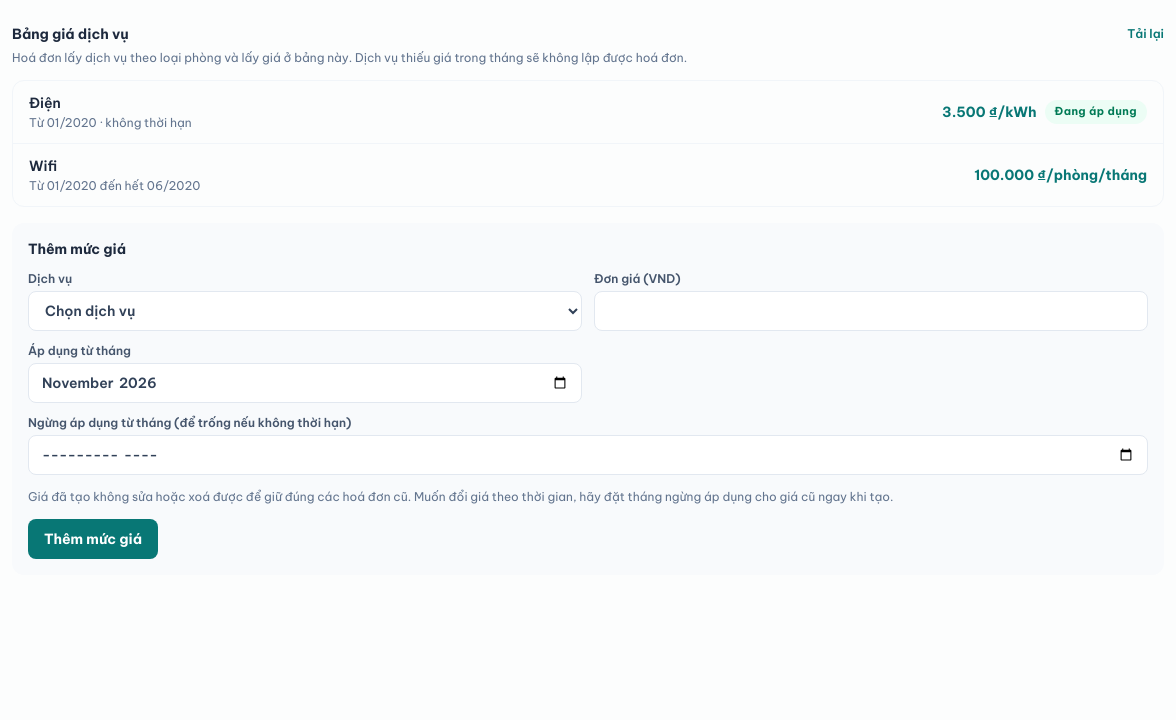
Scenario: PropertyServiceRatesPanel › submits the backend default for Additional Occupant without a billing selector
Step 1. Select "Additional Occupant" in the dropdown labelled "Dịch vụ" → (305, 311), box [28,291,582,331]
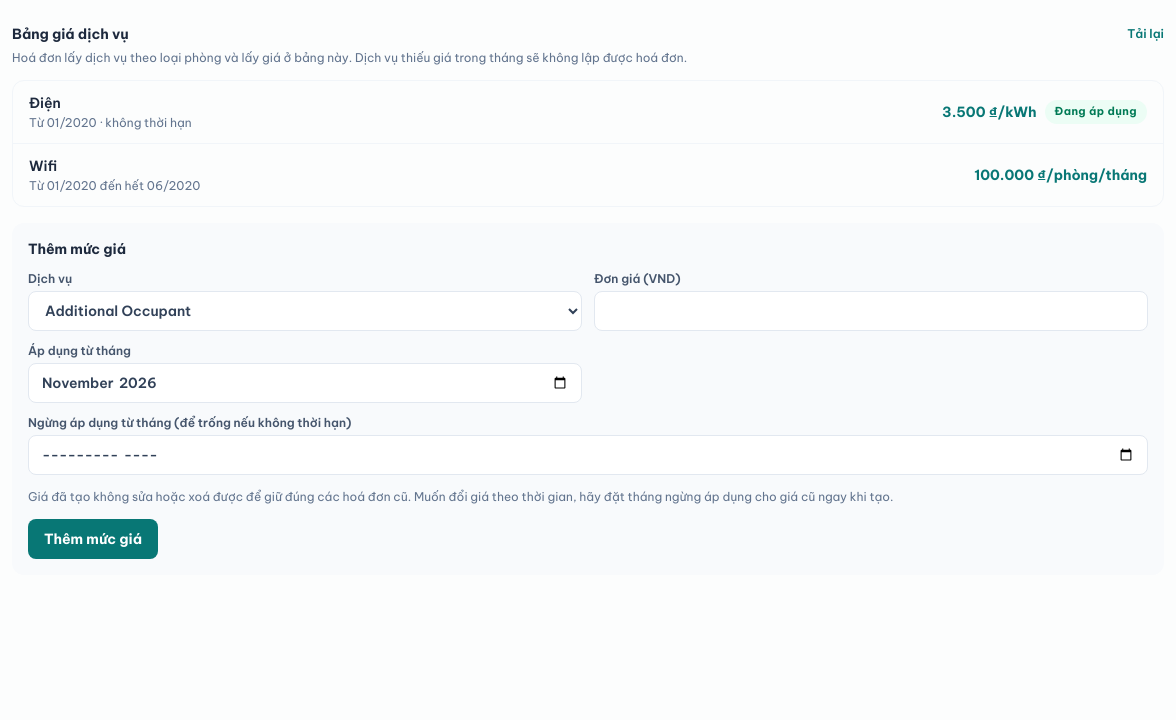
Step 2. Type "50000" into the field labelled "Đơn giá (VND)" → (871, 311), box [594,291,1148,331]
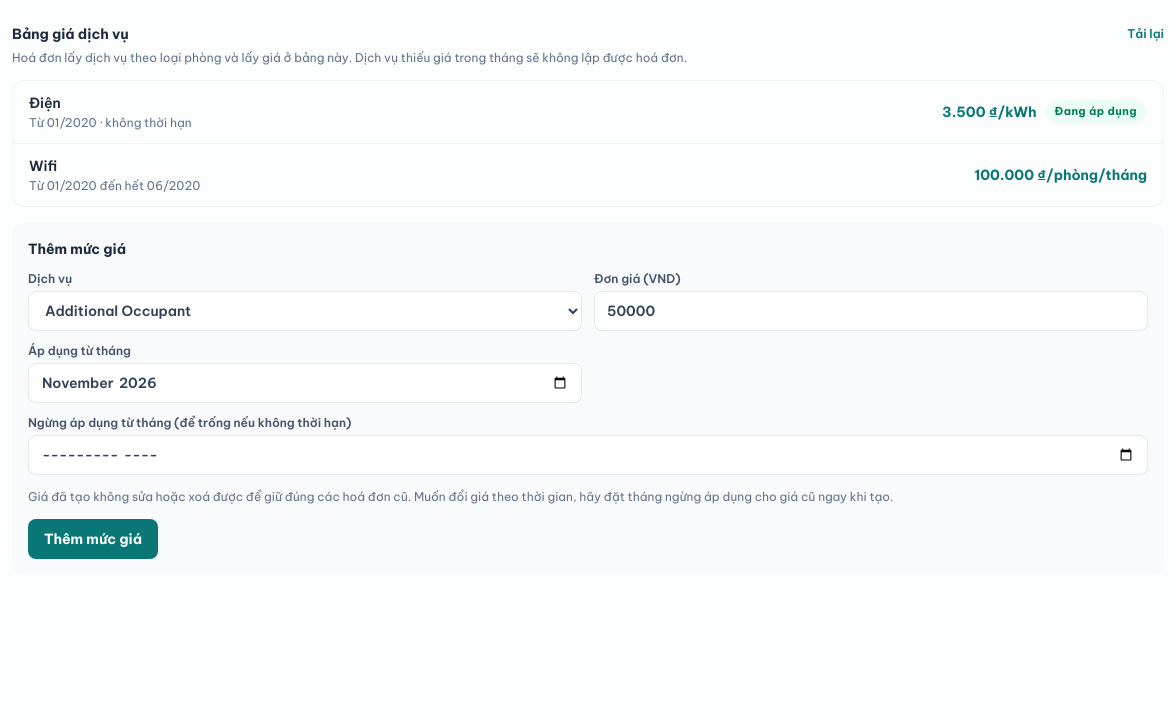
Step 3. Replace the text in the field labelled "Áp dụng từ tháng" with "2026-12" → (305, 383), box [28,363,582,403]
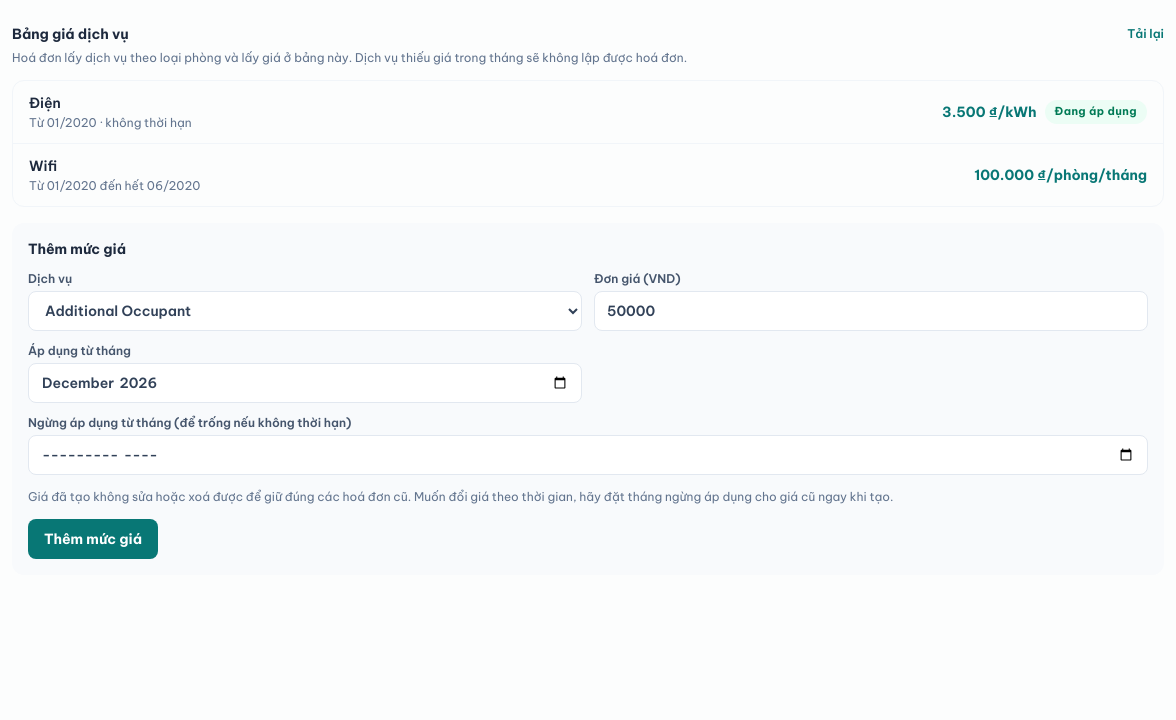
Step 4. Click the button "Thêm mức giá" → (93, 539), box [28,519,158,559]
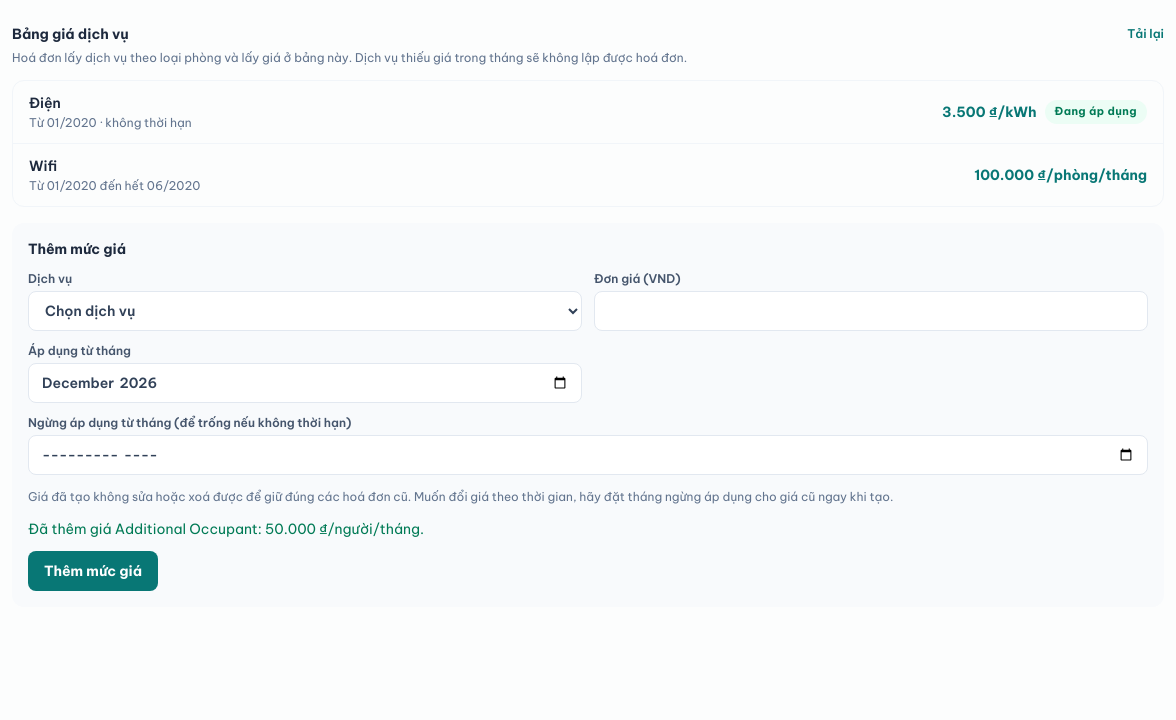
Result: the text "Đã thêm giá Additional Occupant: 50.000 ₫/người/tháng." is shown at [28,520,424,538]
